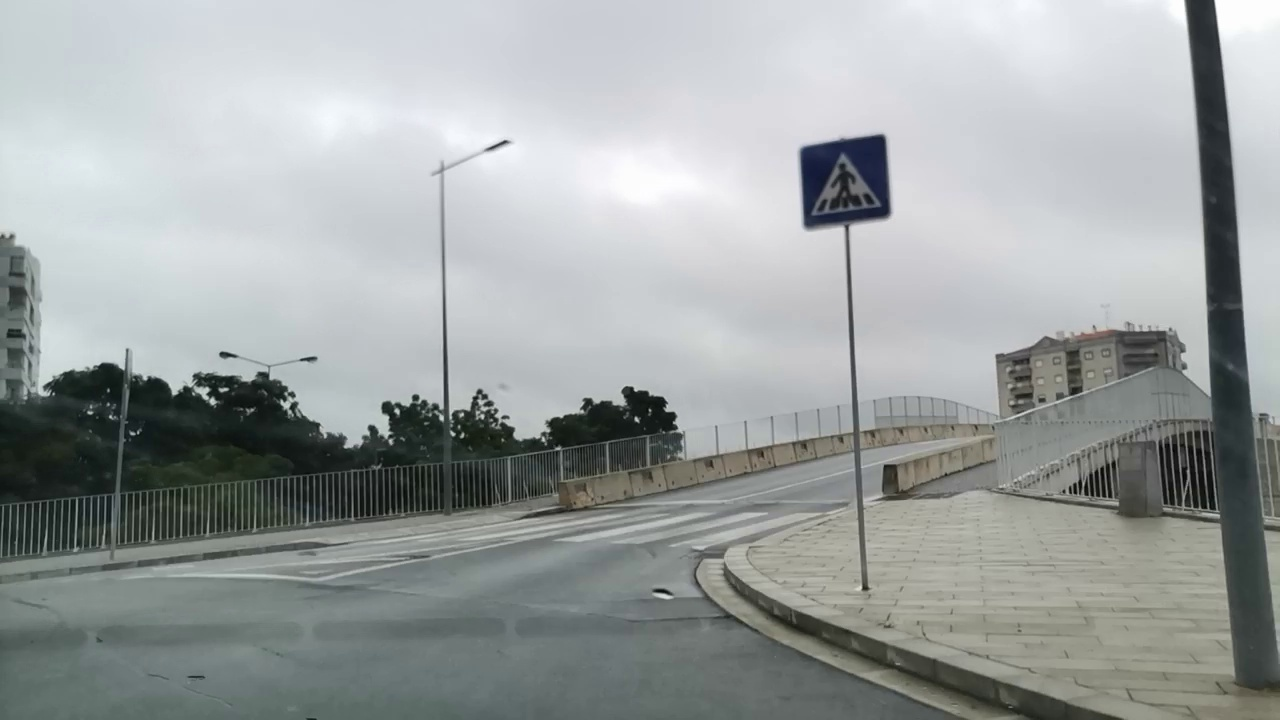Stairs: (358, 501, 822, 551)
